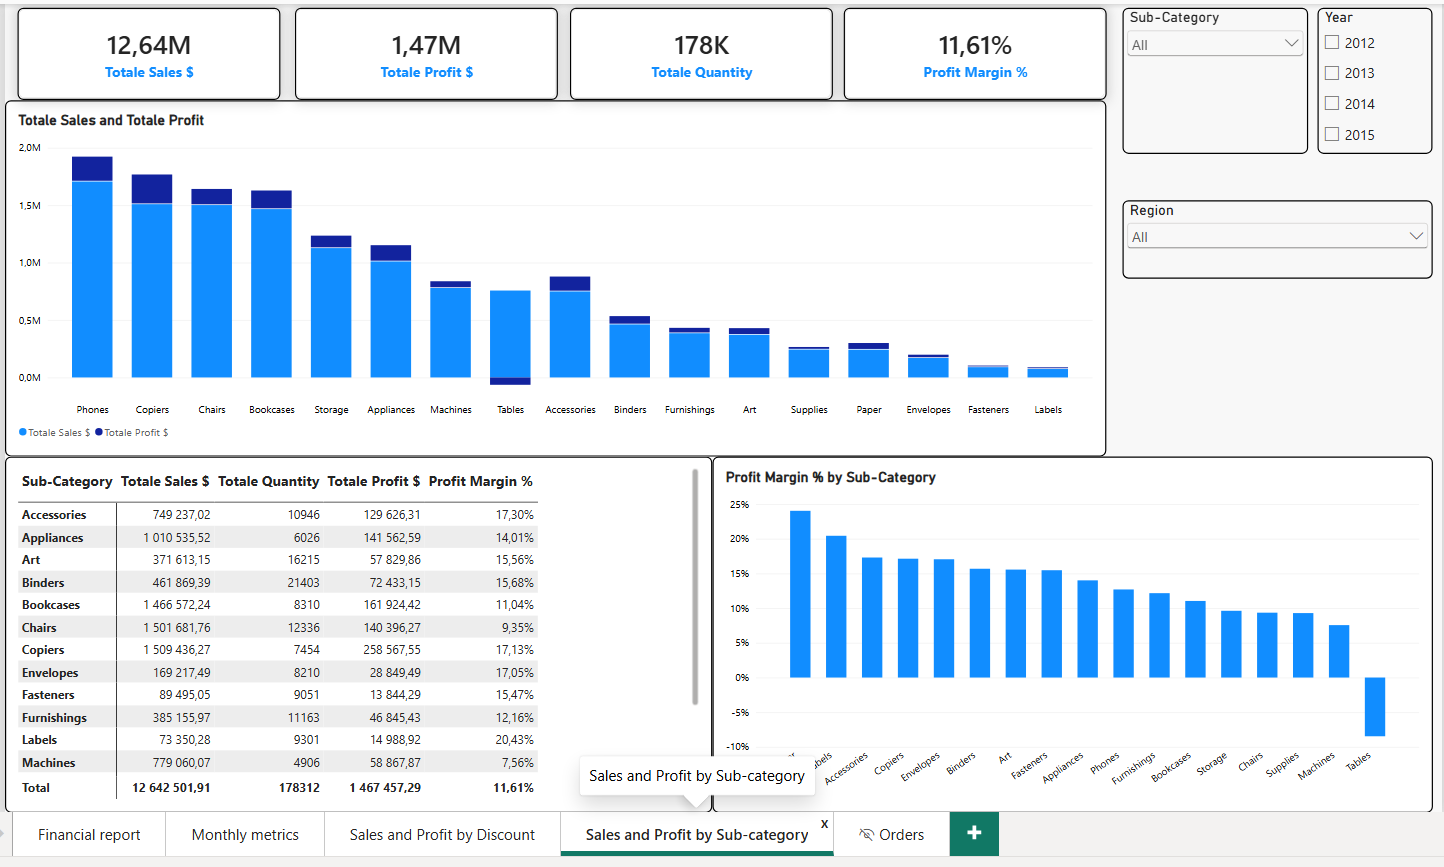

This screenshot's page, from the dashboard's own definition file:
{"tool":"powerbi","page":{"name":"Sales and Profit by Sub-category","canvas":[1920,1080],"ordinal":3},"visuals":[{"type":"pivotTable","fields":{"Rows":["dimProduct.Sub-Category"],"Values":["_measures.Totale Sales $","_measures.Totale Quantity","_measures.Totale Profit $","_measures.Profit Margin %"]},"box":[0,604.4,944.6,475.9],"z":0},{"type":"columnChart","title":"Totale Sales  and Totale Profit ","fields":{"Category":["dimProduct.Sub-Category"],"Y":["_measures.Totale Sales $","_measures.Totale Profit $"]},"box":[0,128.5,1471.3,475.9],"z":1000},{"type":"clusteredColumnChart","fields":{"Category":["dimProduct.Sub-Category"],"Y":["_measures.Profit Margin %"]},"box":[944.6,604.4,962.7,475.9],"z":2000},{"type":"cardVisual","fields":{"Data":["_measures.Totale Sales $"]},"box":[16.3,5.4,351.1,123.1],"z":3000},{"type":"cardVisual","fields":{"Data":["_measures.Totale Profit $"]},"box":[387.3,5.4,351.1,123.1],"z":4000},{"type":"cardVisual","fields":{"Data":["_measures.Totale Quantity"]},"box":[754.6,5.4,351.1,123.1],"z":5000},{"type":"cardVisual","fields":{"Data":["_measures.Profit Margin %"]},"box":[1120.2,5.4,351.1,123.1],"z":6000},{"type":"slicer","fields":{"Values":["DimDate.Date.Variation.Date Hierarchy.Year"]},"box":[1753.6,5.4,153.8,195.4],"z":7000},{"type":"slicer","fields":{"Values":["dimProduct.Sub-Category"]},"box":[1493,5.4,247.9,195.4],"z":8000},{"type":"slicer","fields":{"Values":["dimAdress.Region"]},"box":[1493,262.4,414.4,105],"z":9000}]}

Visuals, with their boxes on the page's 1920x1080 design canvas (x1, y1, x2, y2). These are canvas units, not pixel positions in the 1444x867 screenshot, which may show the page scaled, cropped or inside an application window:
pivotTable - dimProduct.Sub-Category x _measures.Totale Sales $: (0, 604, 945, 1080)
"Totale Sales  and Totale Profit " columnChart: (0, 128, 1471, 604)
clusteredColumnChart - dimProduct.Sub-Category x _measures.Profit Margin %: (945, 604, 1907, 1080)
cardVisual - _measures.Totale Sales $: (16, 5, 367, 128)
cardVisual - _measures.Totale Profit $: (387, 5, 738, 128)
cardVisual - _measures.Totale Quantity: (755, 5, 1106, 128)
cardVisual - _measures.Profit Margin %: (1120, 5, 1471, 128)
slicer - DimDate.Date.Variation.Date Hierarchy.Year: (1754, 5, 1907, 201)
slicer - dimProduct.Sub-Category: (1493, 5, 1741, 201)
slicer - dimAdress.Region: (1493, 262, 1907, 367)
